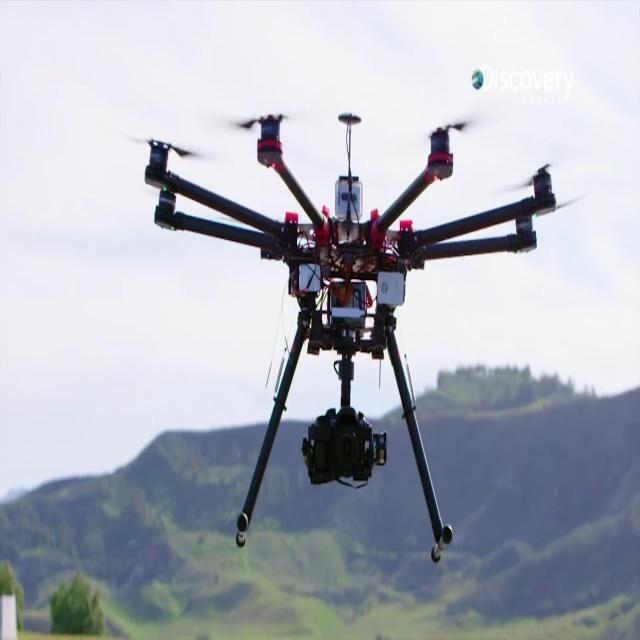drone: (130, 58, 604, 562)
